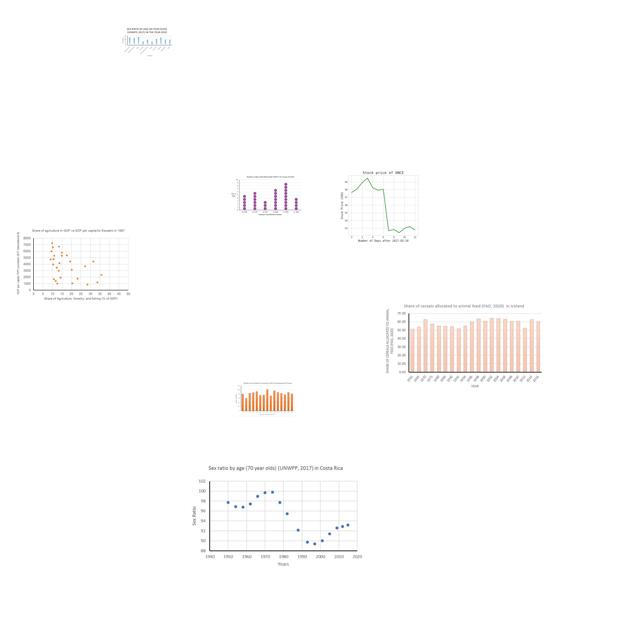Graph: (188, 463, 365, 568), (384, 301, 546, 391), (15, 225, 131, 303), (330, 166, 434, 244), (229, 175, 303, 217), (234, 381, 295, 417), (121, 27, 173, 57)
